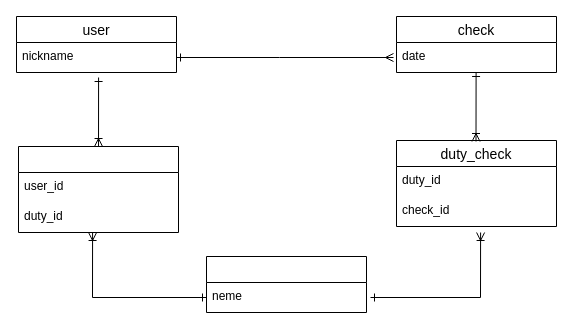
Image size: 573x329. Some labels were removed from this diagram. The shapes that lost their labels are listed below. From the top down, each one's box as (x1, y1, x2, y2) in pixels, then its label:
(18, 146, 178, 232): duty_user
(206, 256, 366, 312): duty
